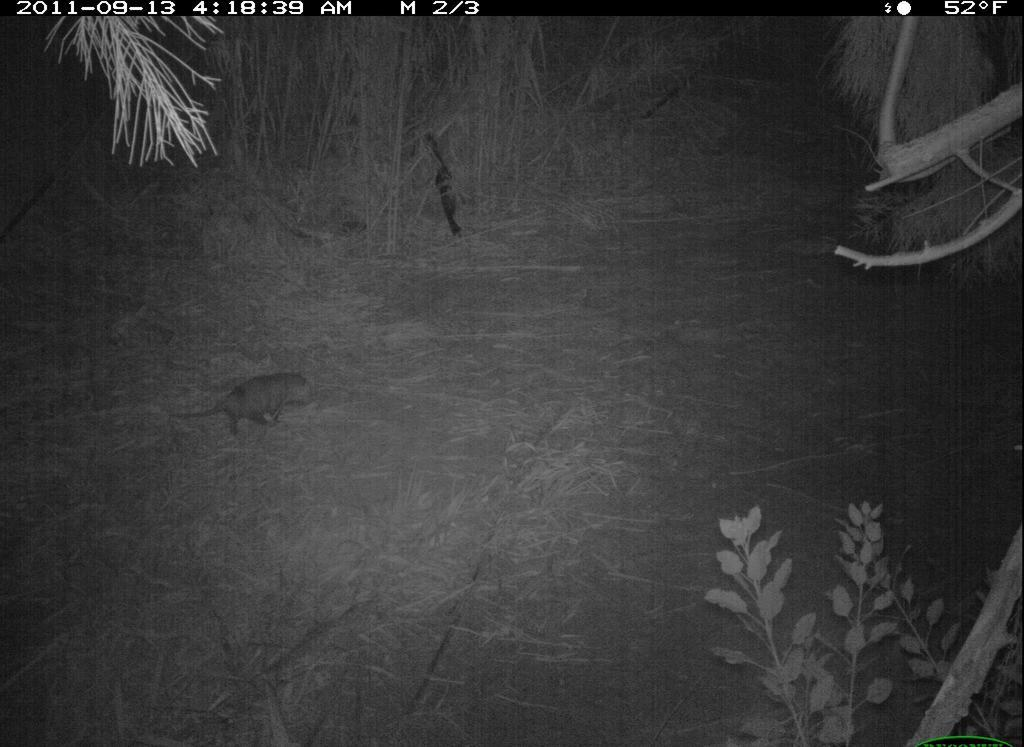opossum: (167, 360, 336, 450)
